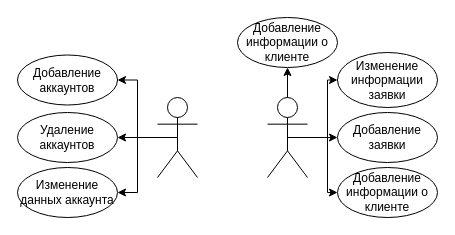
This 455x235 diagram has some shape labels left out. The shapes that lost their labels are listed below. From the top down, each one's centre as x and y in pixels, then its label:
the point at 177,137: Администратор
the point at 287,137: Сотрудник
